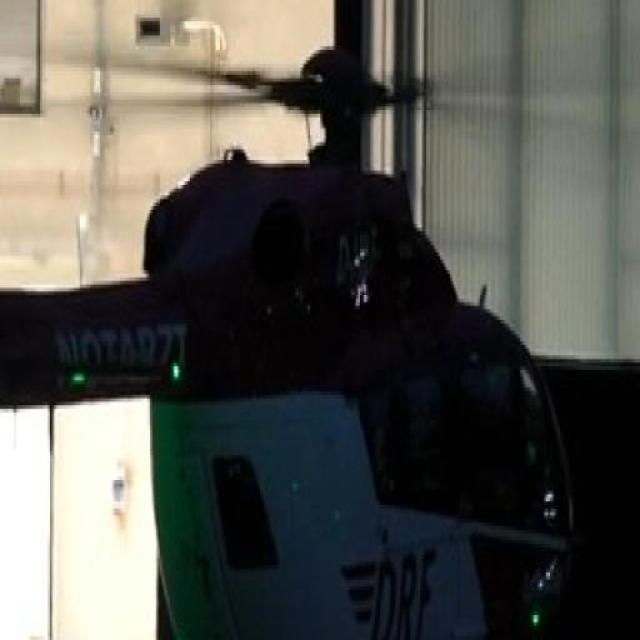drone: (0, 0, 590, 640)
